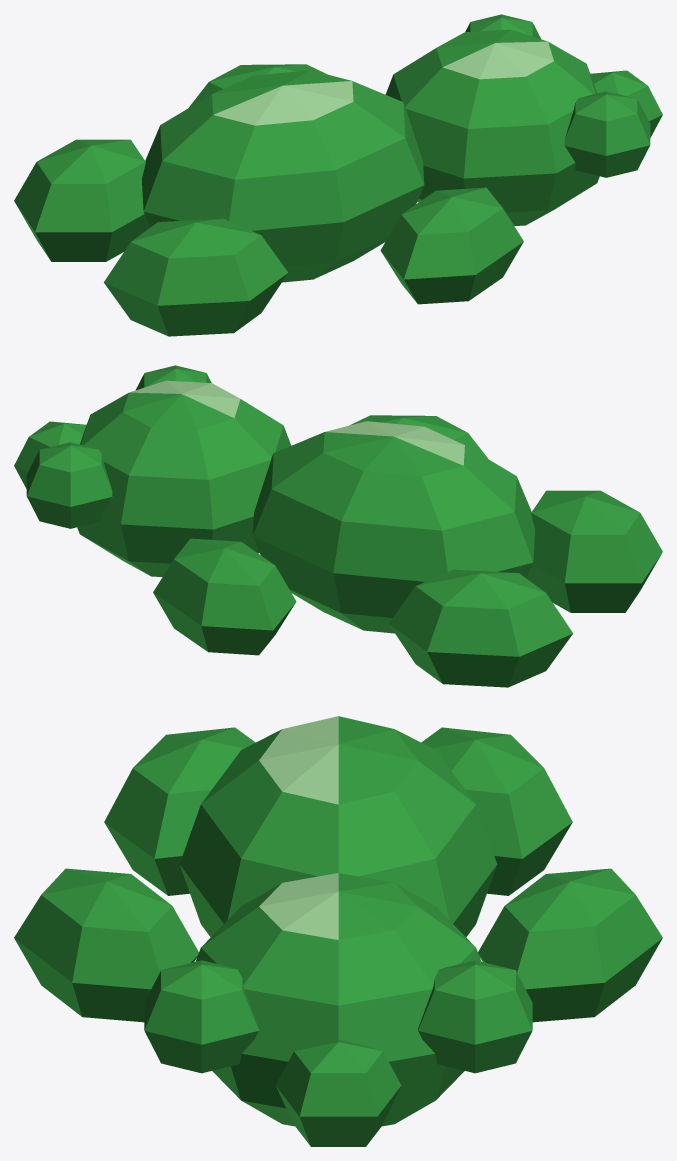
The model's file is food-gummy-3.glb.
The picture shows the model from 3 angles, top to bottom: view 1: azimuth 30°, elevation 25°; view 2: azimuth 150°, elevation 25°; view 3: azimuth 270°, elevation 25°; orthographic projection. The views are drawn at different scales.
Bounding box in the file's own units: 3.95 × 1.2 × 2.94.
